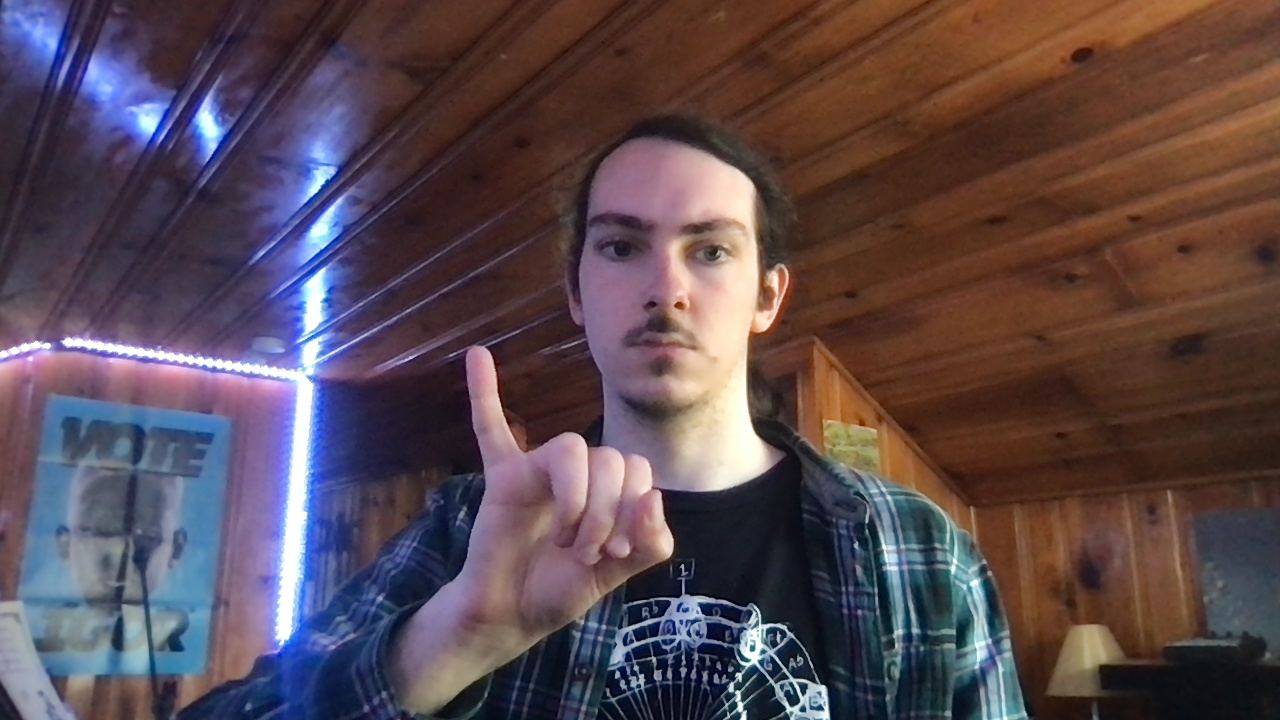i: (448, 341, 679, 642)
